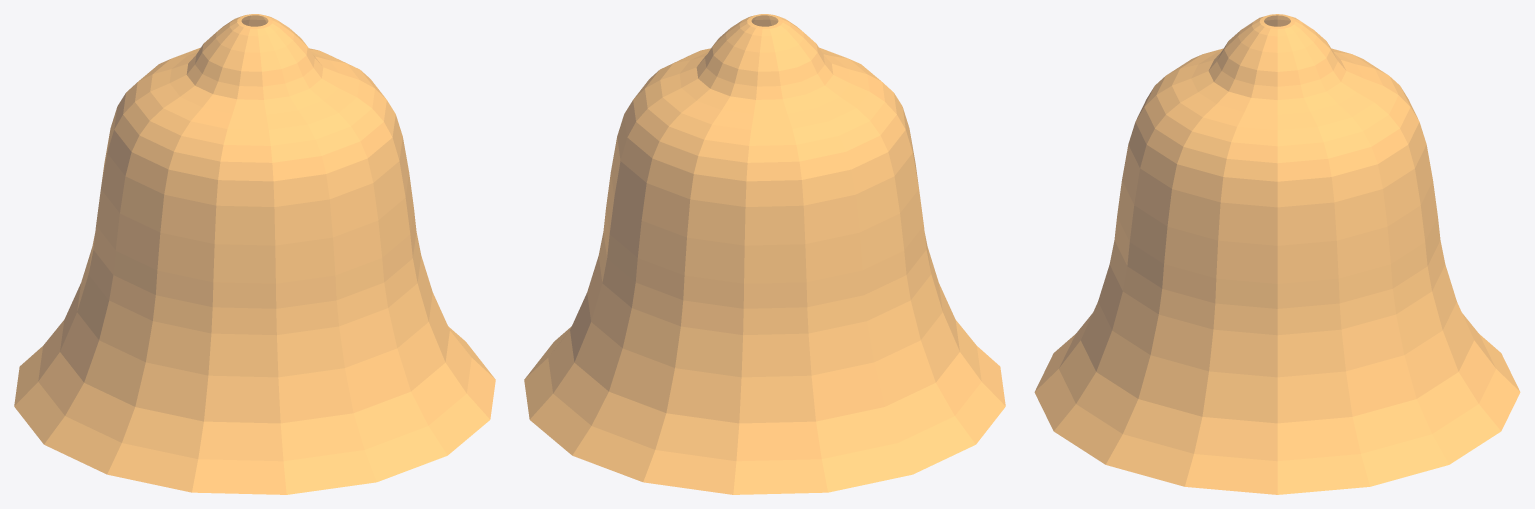
The picture shows the model from 3 angles, left to right: view 1: azimuth 30°, elevation 25°; view 2: azimuth 150°, elevation 25°; view 3: azimuth 270°, elevation 25°; orthographic projection.
Parts seen in each view (by area): view 1: Bell; view 2: Bell; view 3: Bell.
Part boxes in pixels (<box>): Bell: <box>14,14,495,494</box>; Bell: <box>524,14,1005,494</box>; Bell: <box>1034,14,1520,494</box>.
Bounding box in the file's own units: 241 × 225 × 241.
